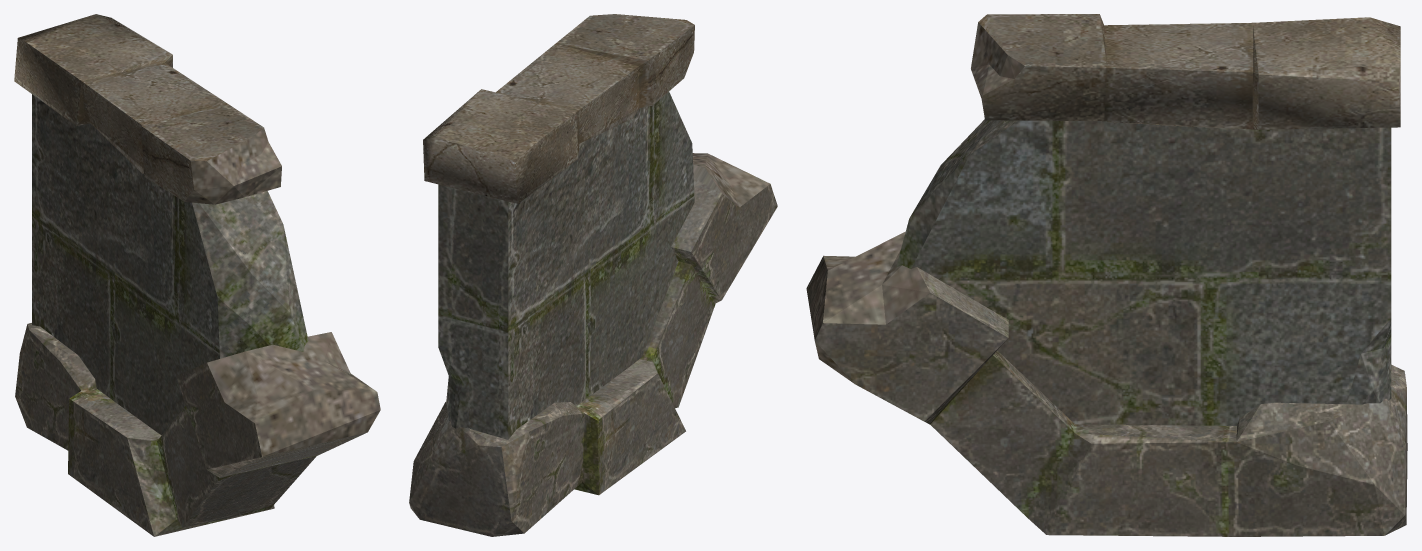
The model's file is bg_lut_lutomb_structure02_sm_old.FBX.
3 renders of one model, left to right at view 1: azimuth 30°, elevation 25°; view 2: azimuth 150°, elevation 25°; view 3: azimuth 270°, elevation 25°, orthographic. The views are drawn at different scales.
Parts seen in each view (by area): view 1: bg_lut_lutomb_structure02_sm_old; view 2: bg_lut_lutomb_structure02_sm_old; view 3: bg_lut_lutomb_structure02_sm_old.
Boxes of the visible parts, x1,y1,x2,y2 form: bg_lut_lutomb_structure02_sm_old: (14, 14, 380, 536); bg_lut_lutomb_structure02_sm_old: (409, 14, 777, 536); bg_lut_lutomb_structure02_sm_old: (806, 14, 1407, 536).
Bounding box in the file's own units: 105 × 300 × 357.
